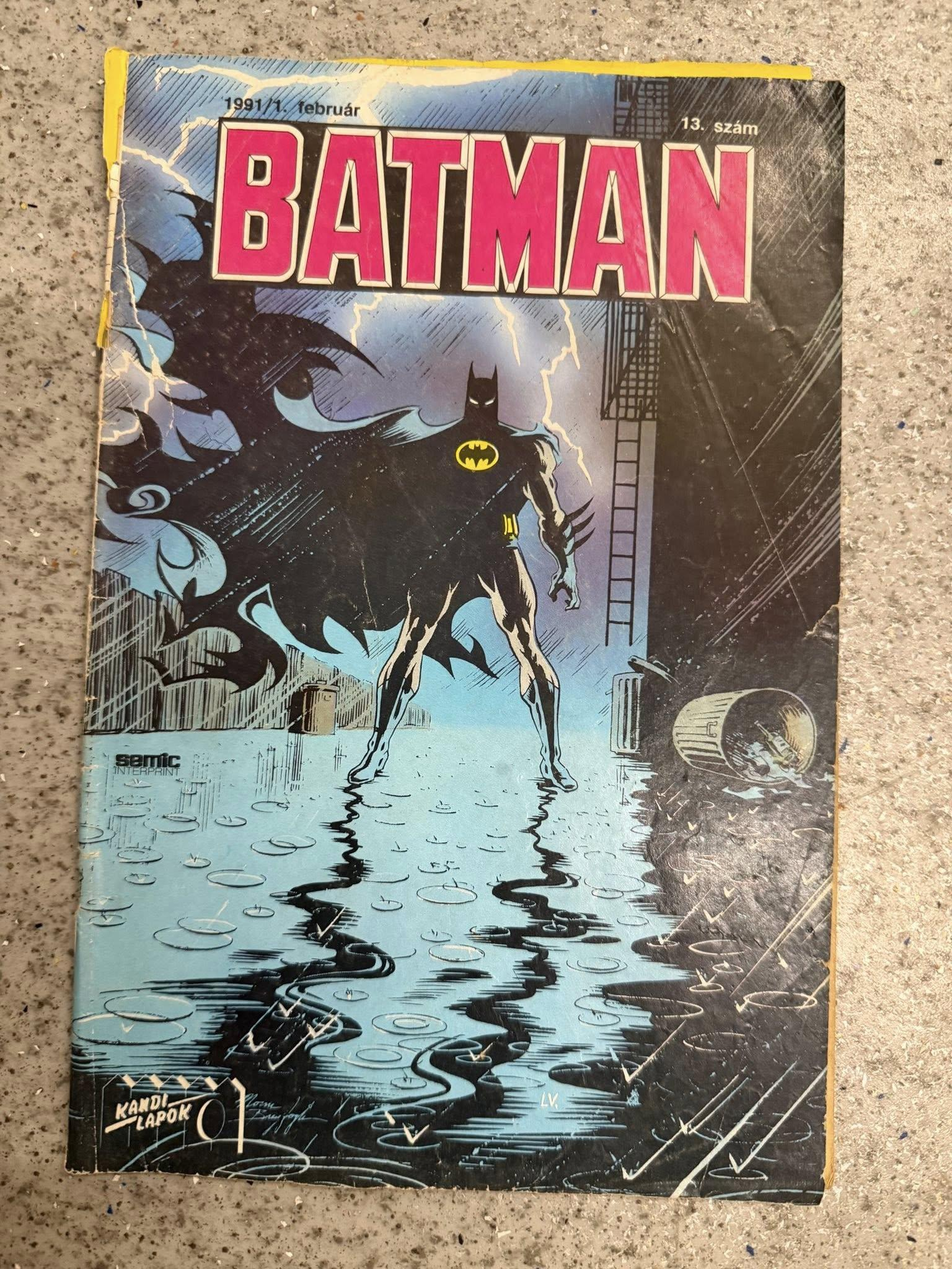comic: (68, 44, 865, 1202)
